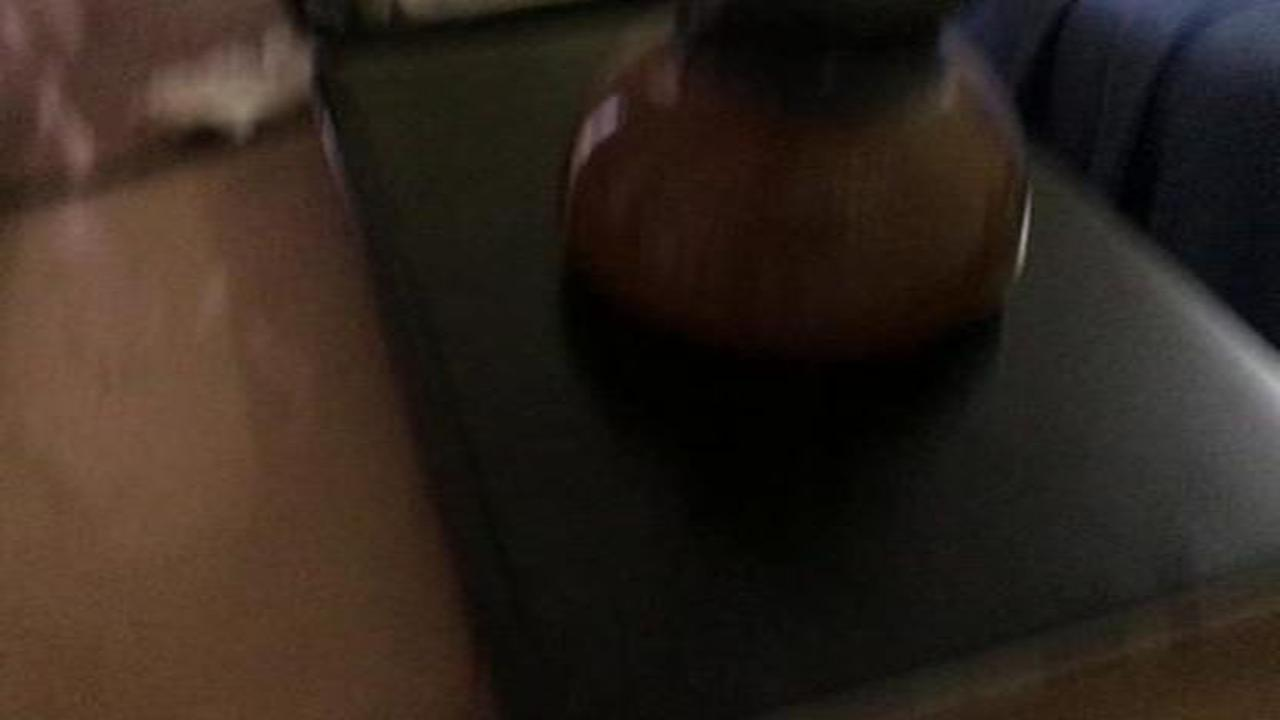insulator_pin: (554, 9, 1050, 362)
